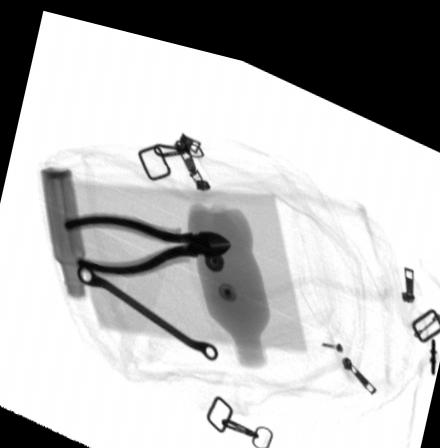Pliers: (60, 206, 233, 270)
Wrench: (76, 256, 220, 350)
